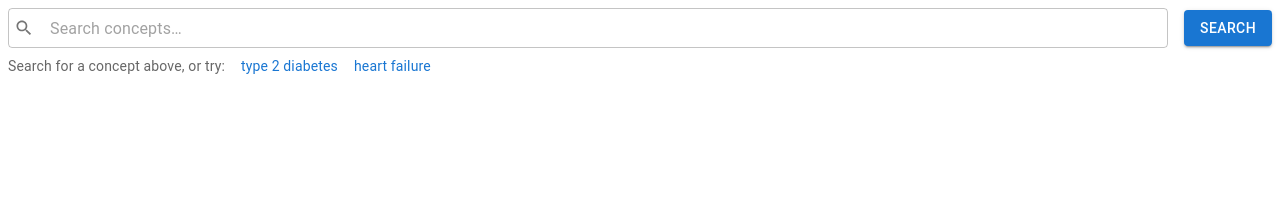
Test: Search › selecting a suggestion › shows the results for the selected label
The width and height of the screenshot is (1280, 208).
Type "asth" into the dropdown labelled "Search".
click(601, 28); type("asth")  # box [42, 14, 1159, 42]
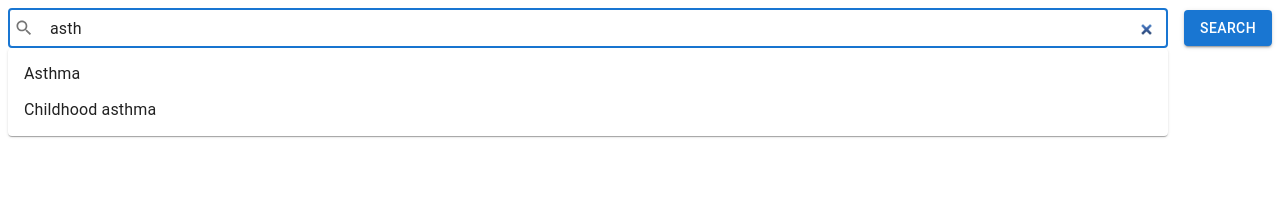
expect the list is shown: met, box [24, 64, 156, 119]
Click the option "Childhood asthma".
click(90, 110)  # box [24, 100, 156, 119]
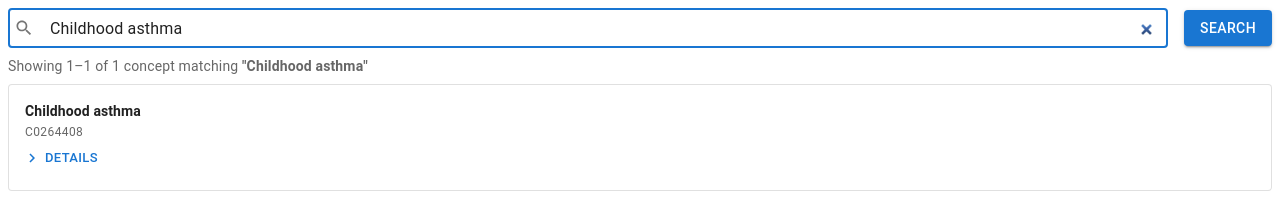
expect the message reads "Showing 1–1 of 1 concept matching \"Childhood asthma\"": met, box [8, 58, 368, 74]
